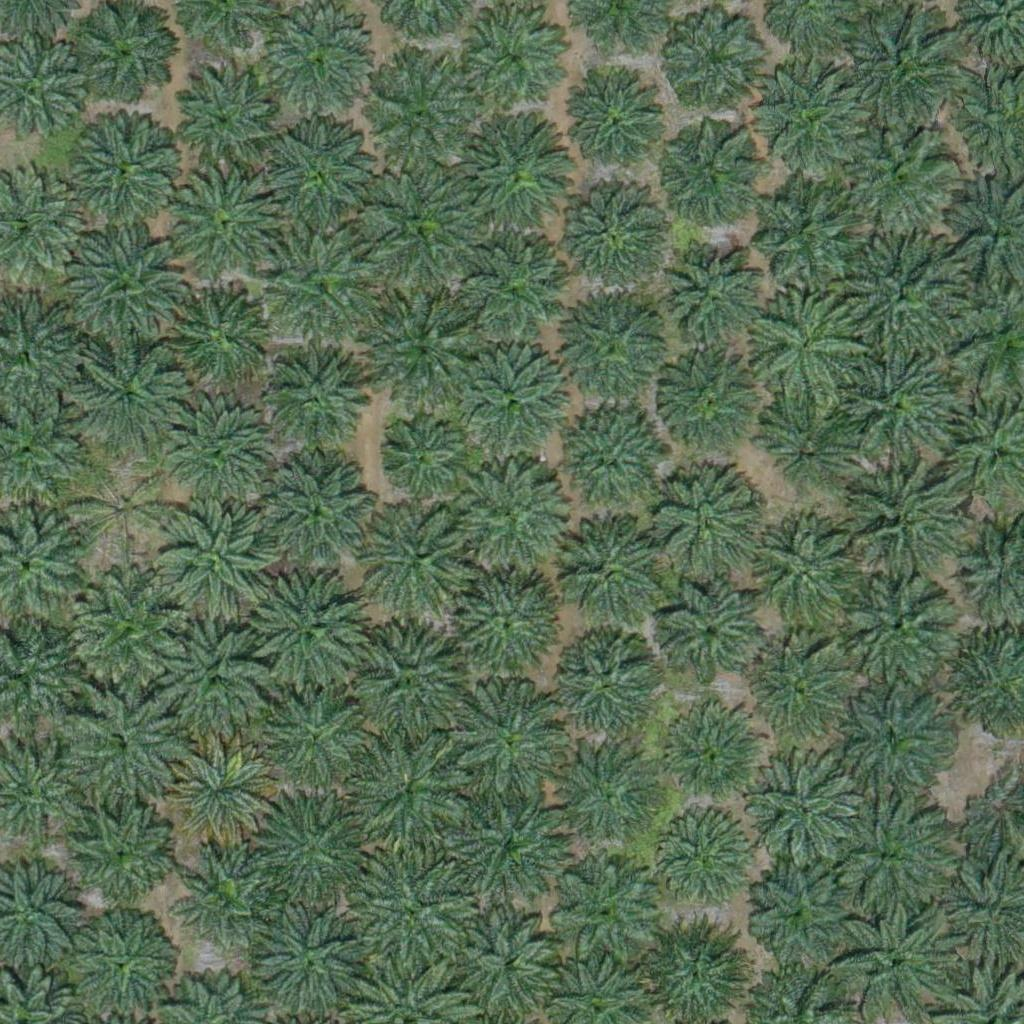Kelapa_Sawit: (839, 236, 964, 362), (447, 233, 572, 359), (361, 290, 486, 416), (823, 796, 948, 922), (833, 892, 958, 1018), (345, 731, 470, 857), (351, 850, 476, 976), (833, 457, 958, 582), (461, 3, 574, 117), (454, 116, 567, 230), (456, 568, 569, 682), (362, 502, 475, 616), (448, 683, 561, 797), (166, 165, 279, 279), (261, 455, 374, 569), (756, 62, 869, 175), (362, 60, 475, 173), (175, 65, 288, 178), (68, 111, 181, 224), (841, 122, 954, 235), (750, 522, 863, 635), (653, 351, 766, 464), (648, 473, 761, 586), (555, 181, 668, 294), (556, 294, 669, 407), (836, 677, 949, 790), (745, 753, 858, 866), (453, 908, 566, 1021), (455, 789, 568, 902), (348, 627, 461, 740), (249, 572, 362, 685), (70, 573, 183, 686), (264, 225, 377, 338), (164, 738, 277, 851), (66, 691, 179, 804), (62, 796, 175, 909), (545, 850, 657, 964), (70, 226, 182, 340), (165, 403, 277, 517), (844, 6, 956, 119), (262, 14, 374, 127), (266, 116, 378, 229), (843, 347, 955, 460), (846, 573, 958, 686), (753, 181, 865, 294), (554, 412, 666, 525), (551, 520, 663, 633), (455, 348, 567, 461), (454, 459, 566, 572), (363, 170, 475, 283), (261, 682, 373, 795), (251, 791, 363, 904), (251, 902, 363, 1015), (72, 338, 184, 451), (157, 622, 269, 735), (158, 500, 270, 613), (73, 460, 173, 561), (667, 6, 767, 107), (76, 3, 176, 104), (756, 298, 856, 399), (762, 392, 862, 493), (750, 639, 850, 740), (656, 128, 756, 229), (667, 245, 767, 346), (658, 579, 758, 680), (72, 916, 172, 1017), (569, 77, 669, 177), (553, 633, 653, 733), (753, 861, 853, 961), (658, 705, 758, 805), (654, 812, 754, 912), (559, 744, 659, 844), (168, 287, 268, 387), (267, 345, 367, 445), (182, 853, 269, 942), (381, 421, 456, 497)
